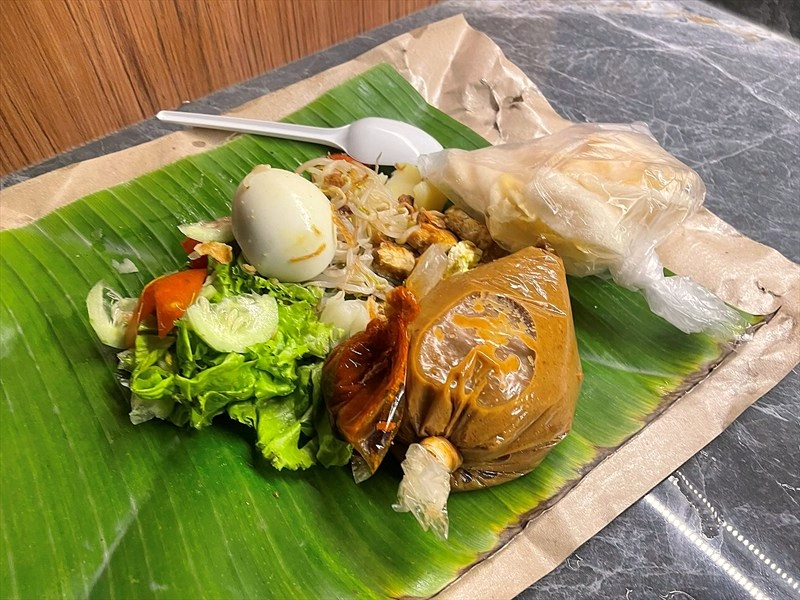Gado-Gado: (117, 109, 648, 511)
